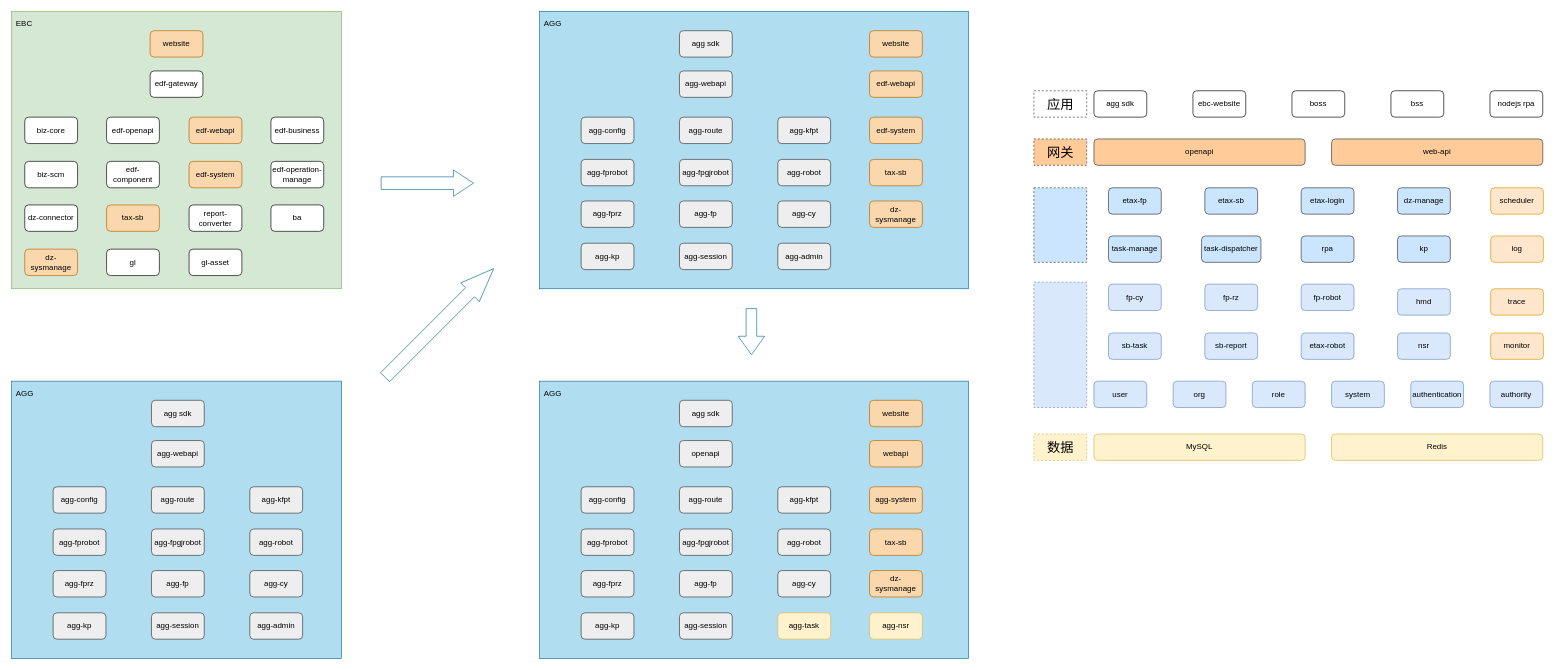
Some shapes in this 1555 by 670 pixel diagram are drawn without their labels. Each missing label, with the centre of its shape:
"基础 服务" belongs at pixel 1060 344.
"聚合 服务" belongs at pixel 1060 224.
